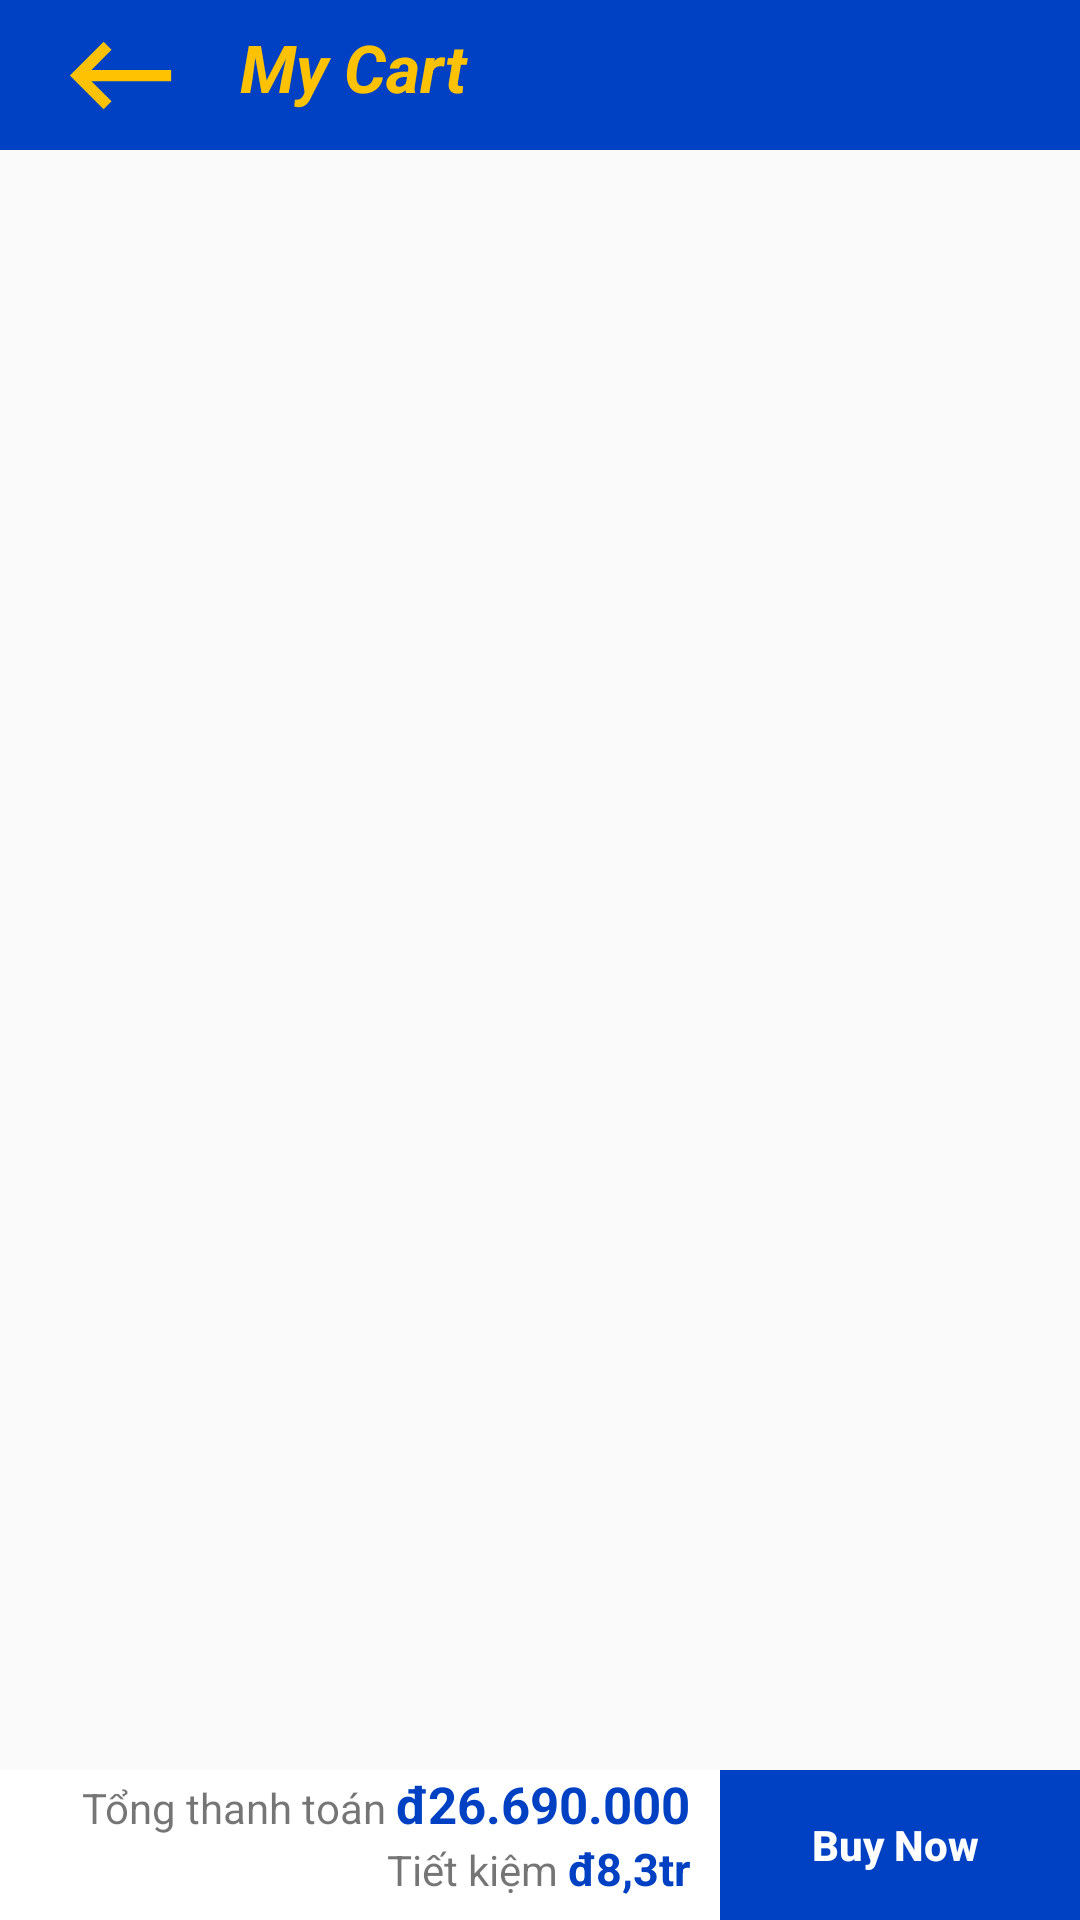

Locate icon controls on the screen. Image size 1080*1920, boxes as box(x1, y1, x2, y2).
keyboard backspace: box(70, 42, 172, 109)
